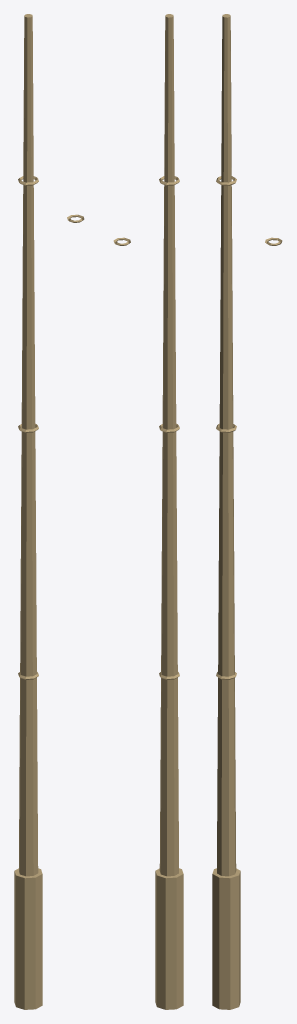
Rendered from fishing_rod.glb.
3 views of the same model, side by side, from view 1: azimuth 30°, elevation 25°; view 2: azimuth 210°, elevation 25°; view 3: azimuth 330°, elevation 25° (orthographic).
Visible parts, largest first — view 1: fishing_rod; view 2: fishing_rod; view 3: fishing_rod.
Boxes of the visible parts, x1,y1,x2,y2 form: fishing_rod: (14, 14, 84, 1009); fishing_rod: (113, 14, 183, 1009); fishing_rod: (212, 14, 282, 1009).
Size of the model in its own units: 0.043 by 0.6 by 0.016.
